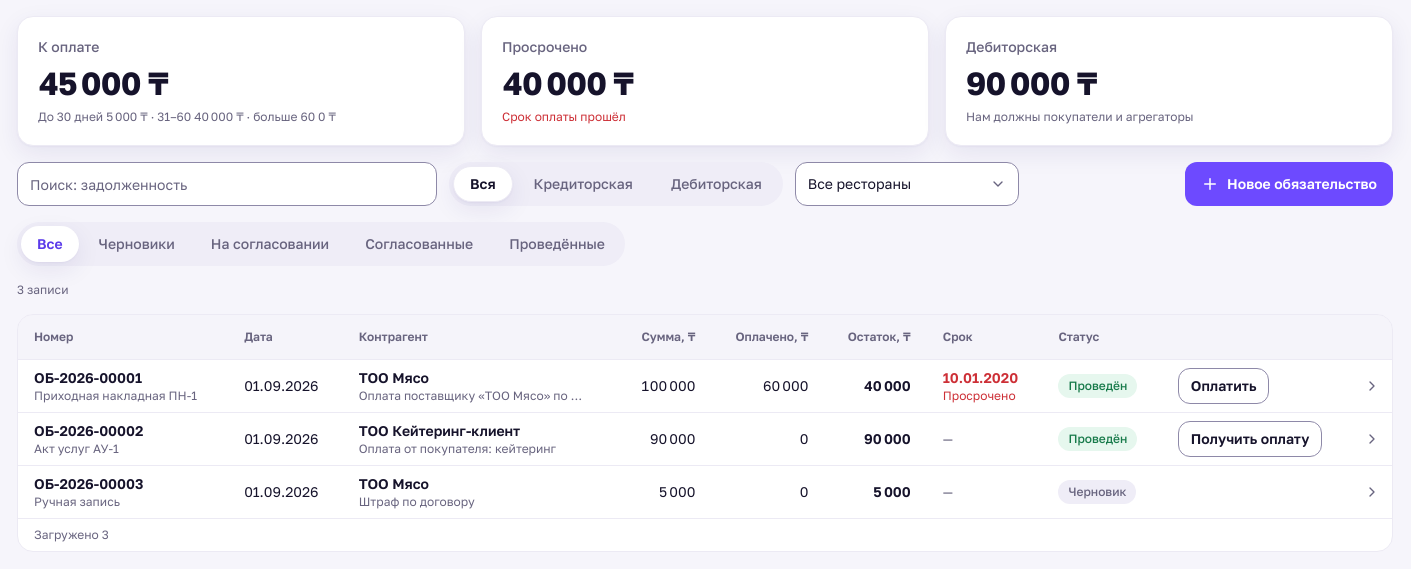
Test: «Задолженность» (W2-FIN-09) › «Кредиторская / Дебиторская» narrows the rows; KPI follow the restaurant filter
This screenshot has width=1411, height=569.
Click the radio button labelled "Дебиторская" at point(716, 184), box [654,166,779,202]
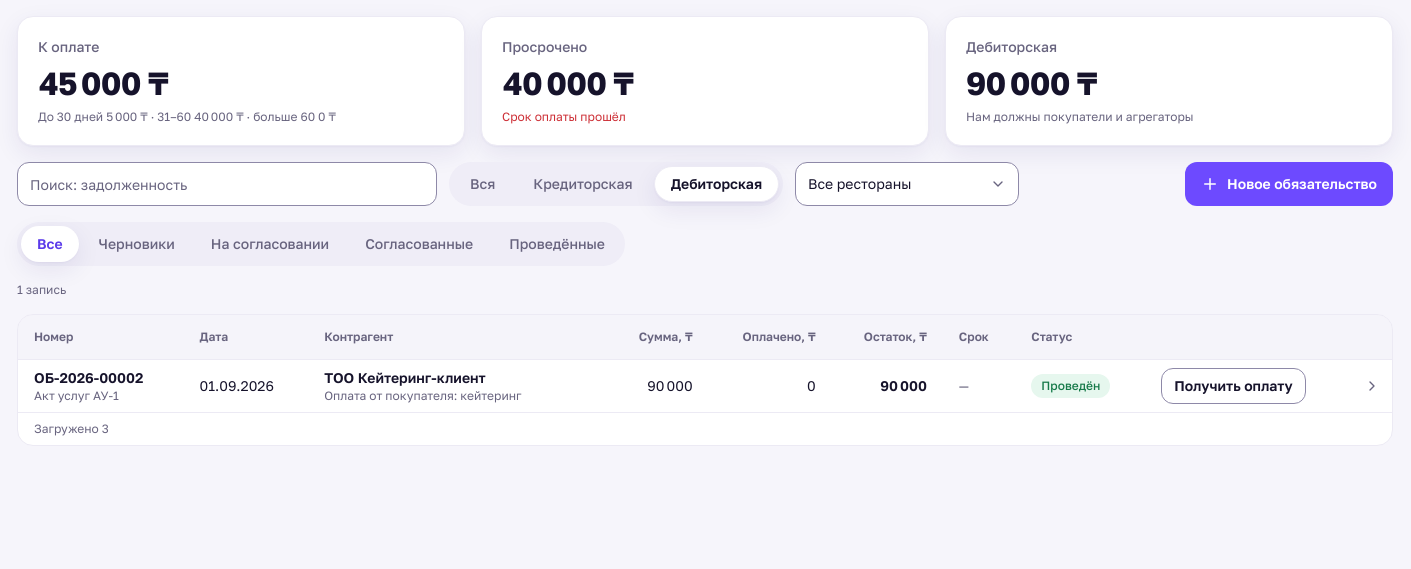
Expected: the text "ОБ-2026-00002" is shown, [34,368,143,386]
Expected: the text "ОБ-2026-00001" is gone
Expected: the text "1 запись" is shown, [17,282,66,297]
